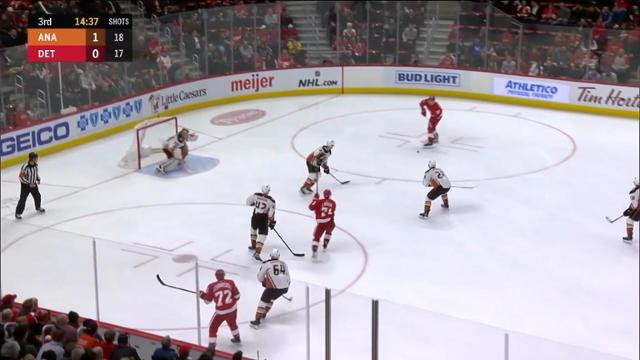geico: (2, 119, 74, 161)
